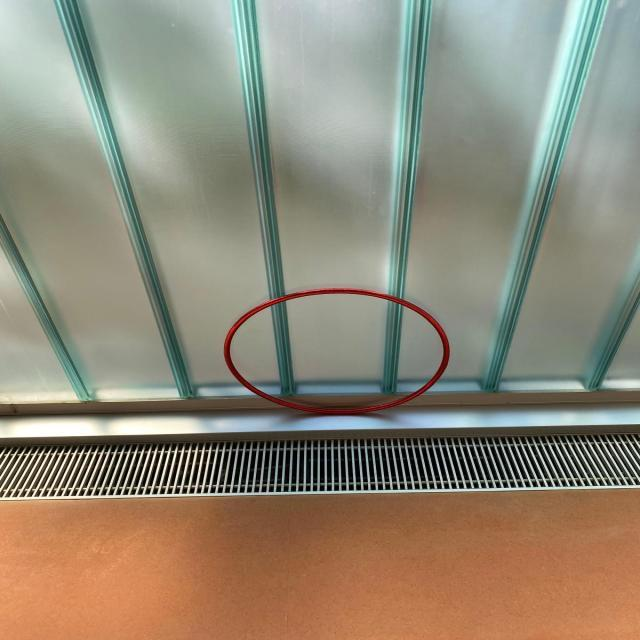Circle: (221, 287, 451, 415)
